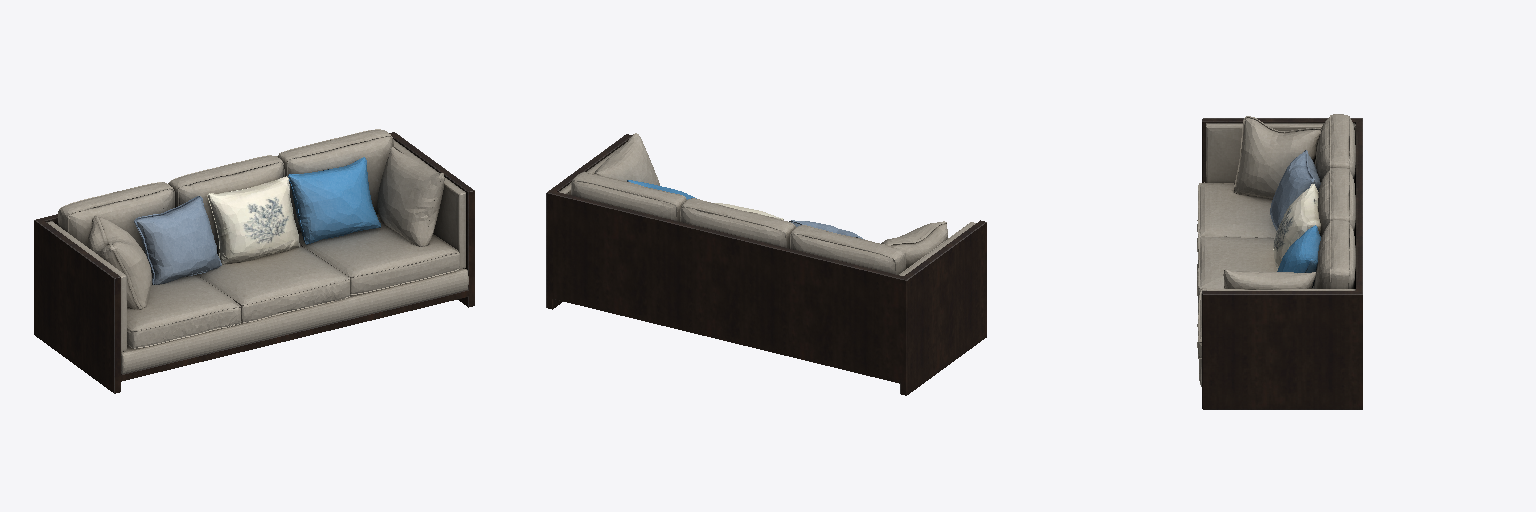
3 renders of one model, left to right at view 1: azimuth 30°, elevation 25°; view 2: azimuth 150°, elevation 25°; view 3: azimuth 270°, elevation 25°, orthographic.
Parts seen in each view (by area): view 1: solid_001, solid_005, solid_004, solid_002, solid_003; view 2: solid_005, solid_001; view 3: solid_001, solid_005, solid_004, solid_003, solid_002.
Boxes of the visible parts, <box> form: solid_001: <box>46,129,468,373</box>; solid_005: <box>34,132,474,393</box>; solid_004: <box>207,176,299,264</box>; solid_002: <box>288,157,380,244</box>; solid_003: <box>134,196,221,284</box>; solid_005: <box>546,134,986,395</box>; solid_001: <box>559,133,975,275</box>; solid_001: <box>1197,114,1355,386</box>; solid_005: <box>1202,118,1362,409</box>; solid_004: <box>1273,184,1320,269</box>; solid_003: <box>1270,150,1320,230</box>; solid_002: <box>1277,225,1320,287</box>.
Size of the model in its own units: 2.58 by 0.8976 by 1.03.
1 materials, 1 textured.